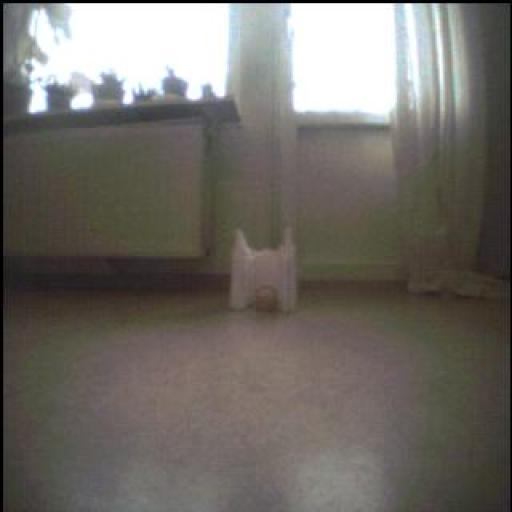Basket: (252, 281, 285, 319)
